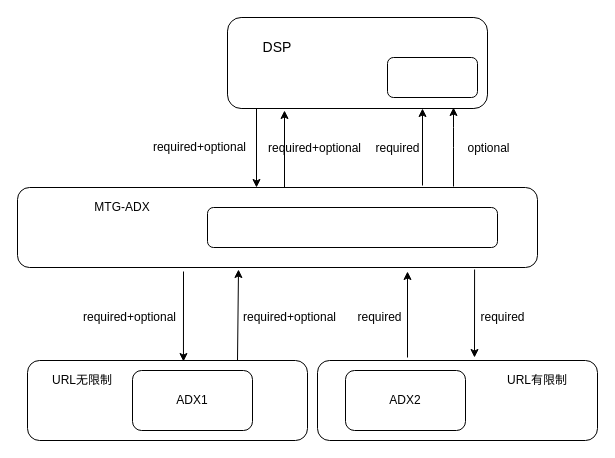
Some shapes in this 615 by 458 pixel diagram are drawn without their labels. The box of each missing label's shape, as (x1, y1, x2, y2) in pixels:
Join Job: (386, 56, 478, 98)
MTG-ORTB: (206, 206, 498, 248)
